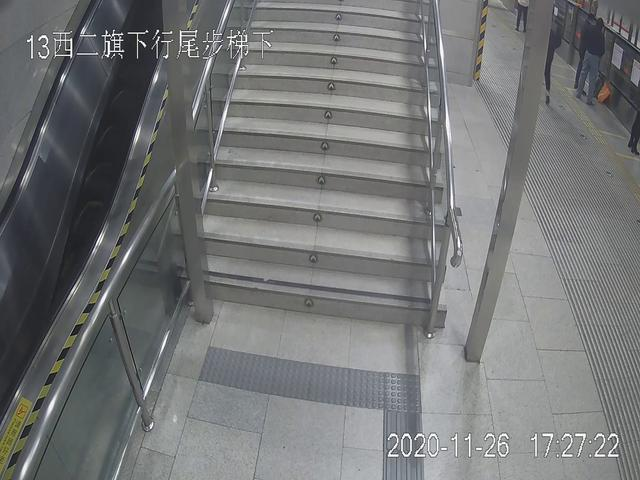person: (577, 15, 607, 106)
